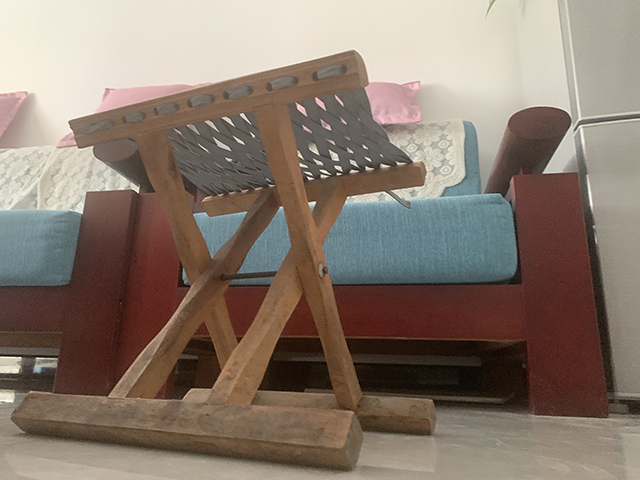sofa: (1, 81, 613, 419)
stool: (9, 49, 438, 473)
